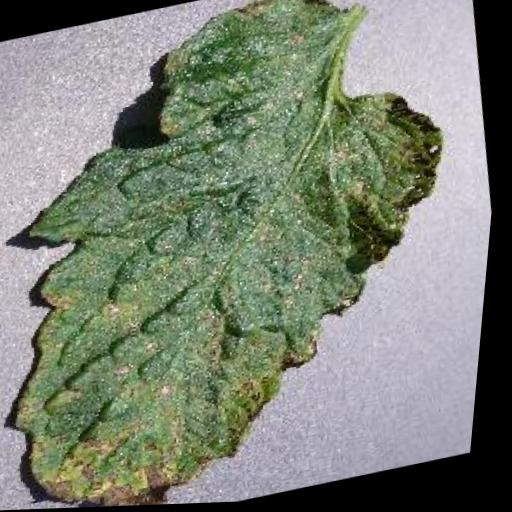Septoria: (0, 0, 506, 512)
